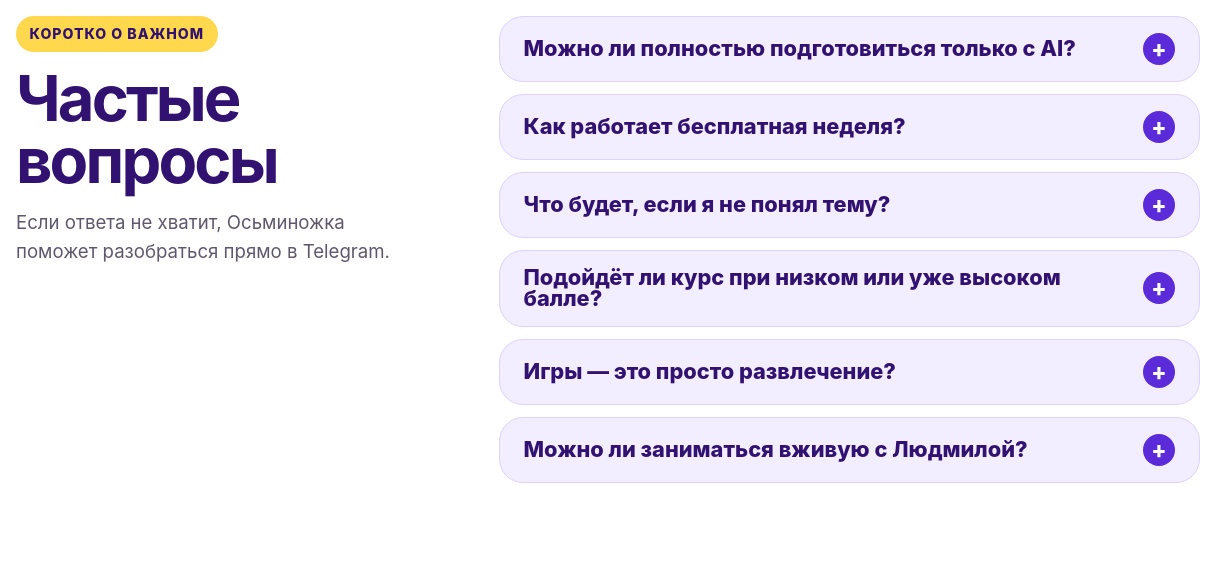
Test: opens only the selected answer and reports the FAQ item
Click the button "Можно ли полностью подготовиться только с AI?": (849, 49) [500,17,1199,81]
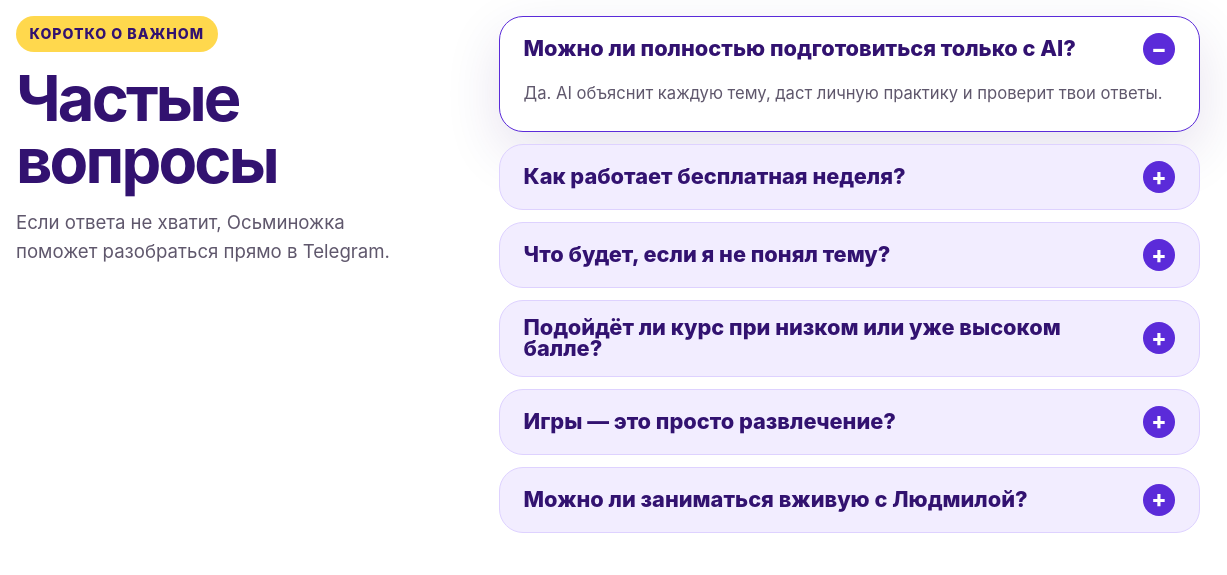
Expected: the button "Можно ли полностью подготовиться только с AI?" is expanded, [500,17,1199,81]
Expected: the element named "Можно ли полностью подготовиться только с AI?" is shown, [524,83,1162,103]
Click the button "Как работает бесплатная неделя? +": (849, 177) [500,145,1199,209]
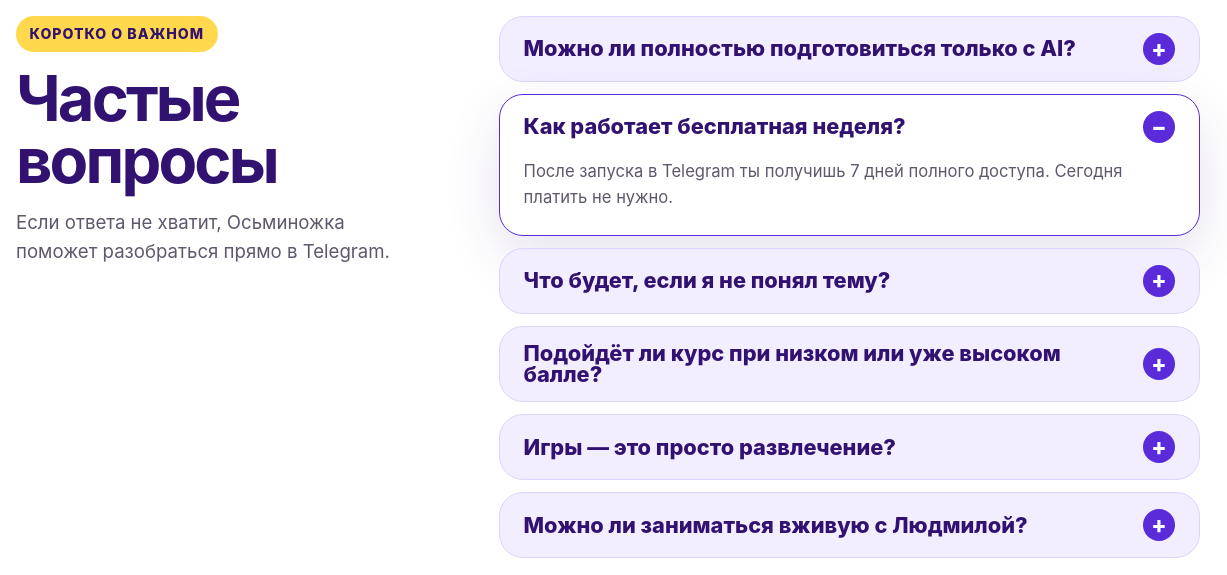
Expected: the button "Можно ли полностью подготовиться только с AI?" is collapsed, [500,17,1199,81]
Expected: the button "Как работает бесплатная неделя? −" is expanded, [500,95,1199,159]
Expected: the element named "Как работает бесплатная неделя?" is shown, [500,159,1199,235]
